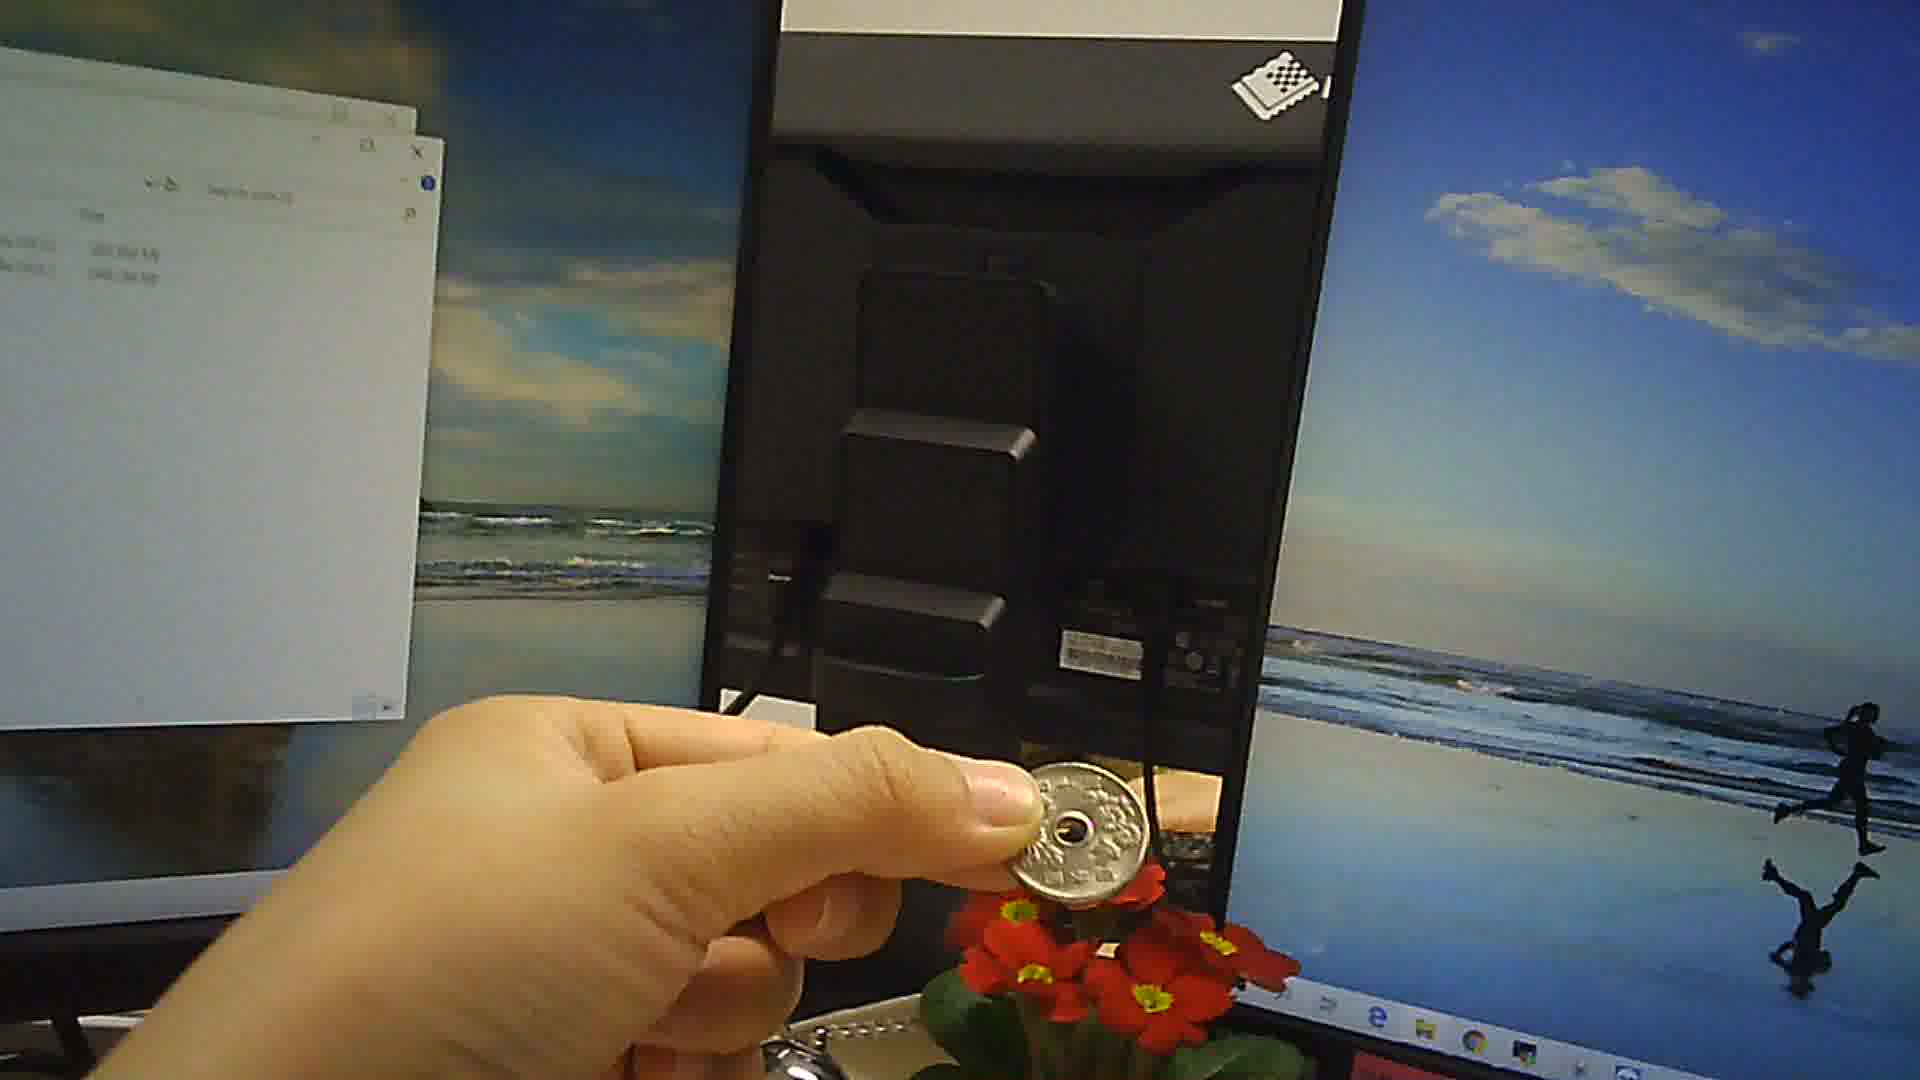50 Yen: (998, 760, 1160, 915)
